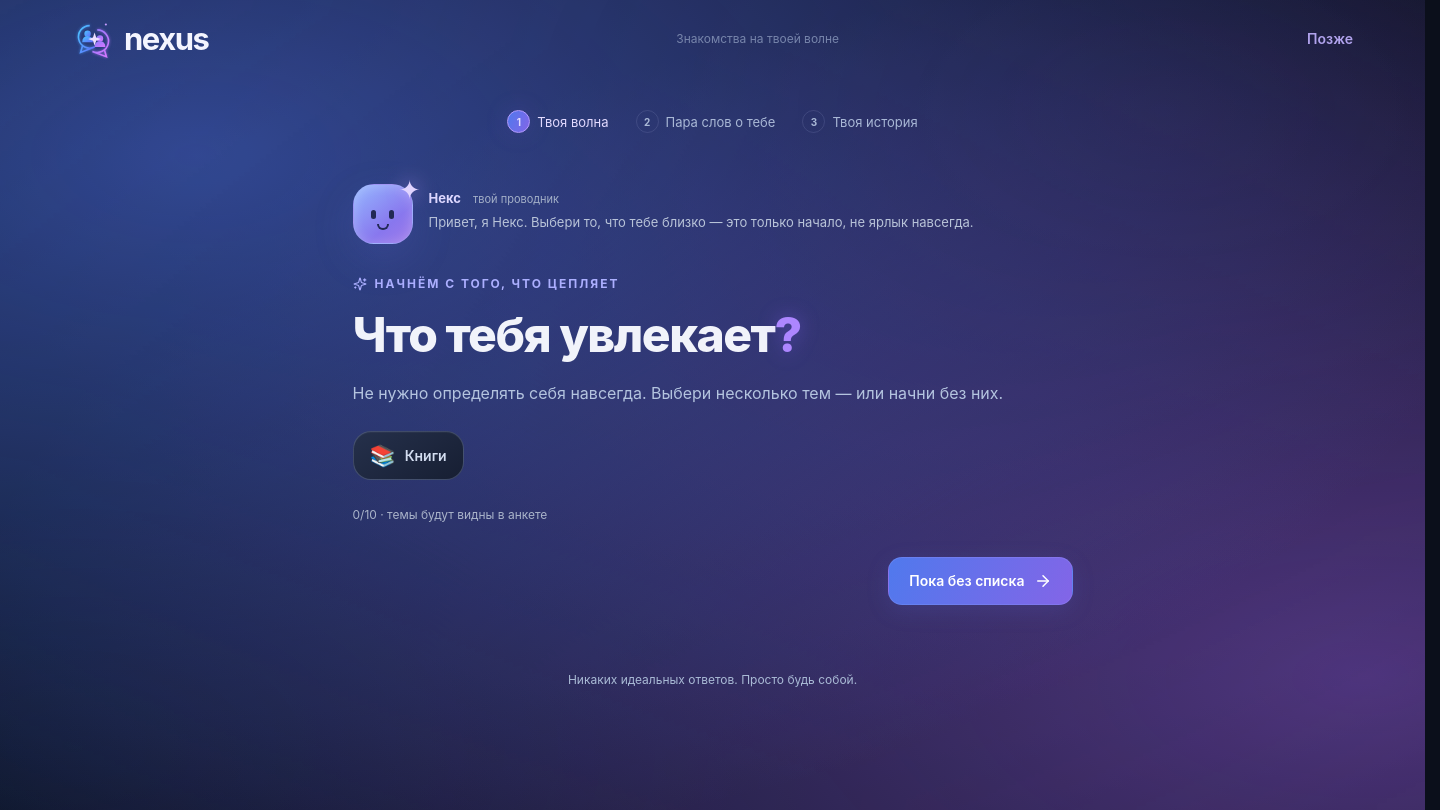
it: does not force interest selection
This screenshot has width=1440, height=810.
Click the button "Пока без списка". click: point(980, 581)
box: [888,557,1072,605]
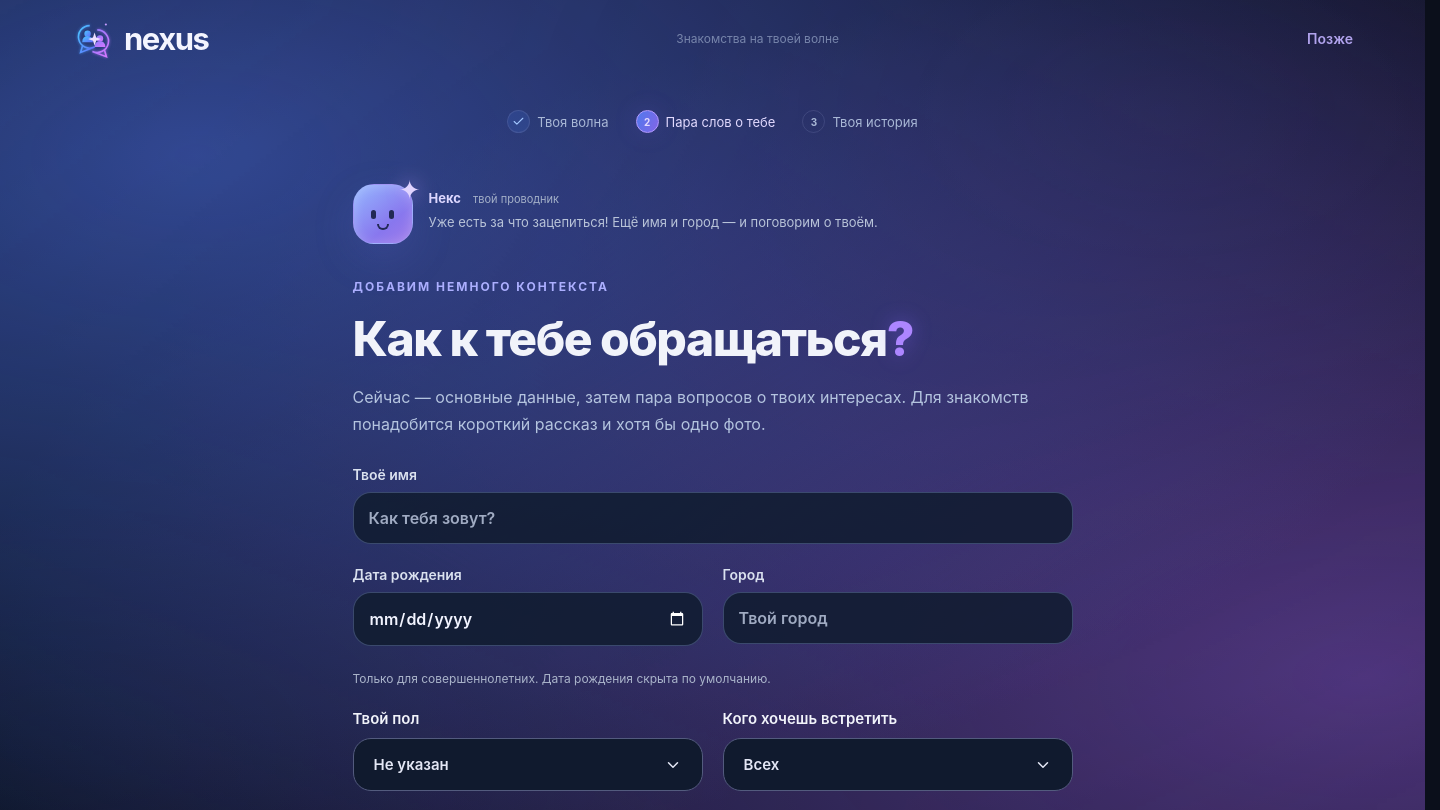
Check: the field labelled "Твоё имя" is shown, box [352,492,1072,544]
